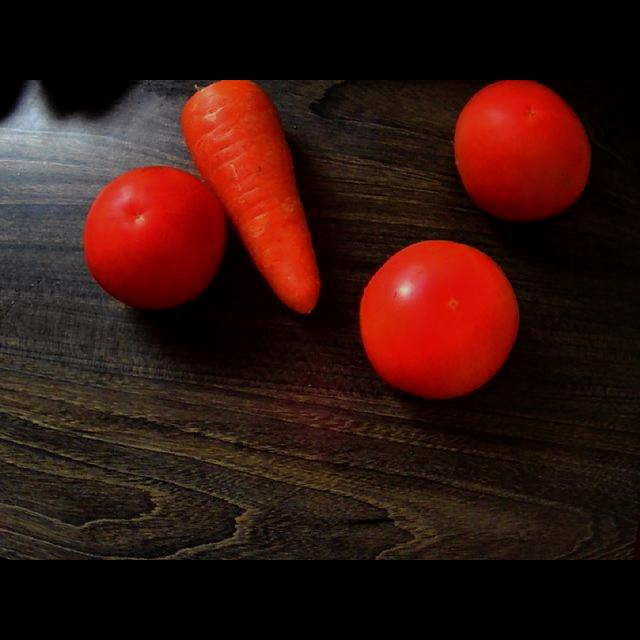tomate: (361, 240, 519, 399), (84, 166, 227, 309), (455, 80, 591, 221)
zanahoria: (183, 80, 320, 313)
